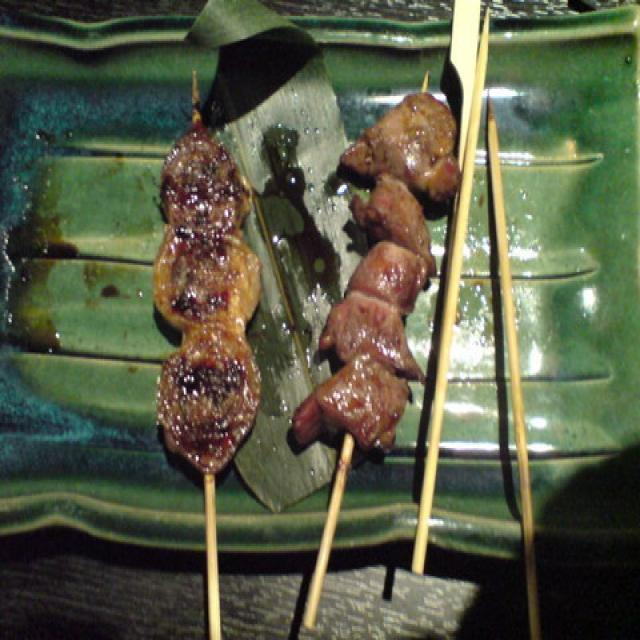烧串烤肉: (296, 64, 453, 624), (148, 42, 268, 640)
